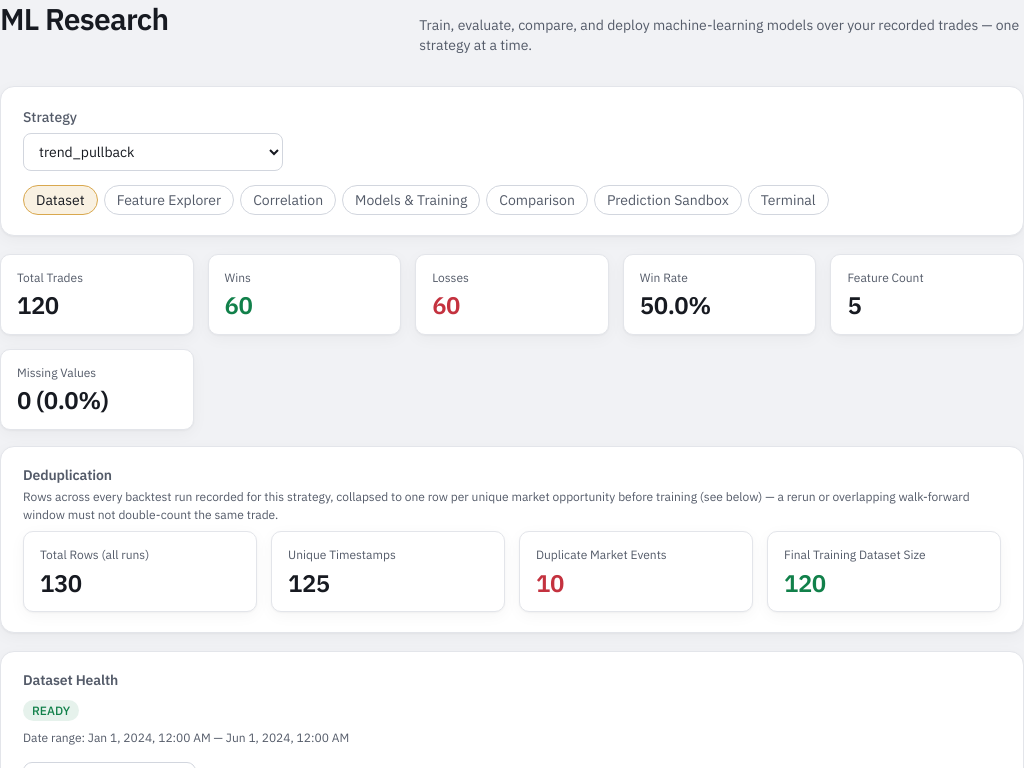
Scenario: MlResearch › Correlation tab: renders the heatmap and ranked tables once selected
Expected: the text "READY" is shown, [23,700,79,721]
Click the button "Correlation" at {"x": 288, "y": 200}, box [240,185,336,215]
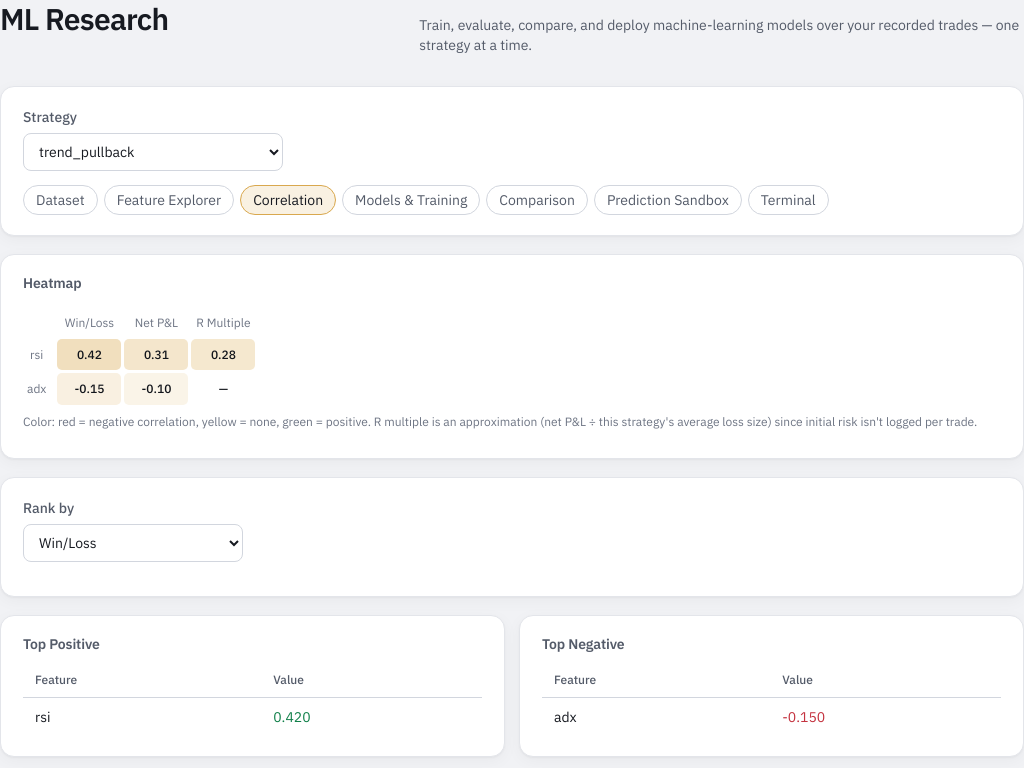
Expected: the text "rsi" is shown, [30,347,43,362]
